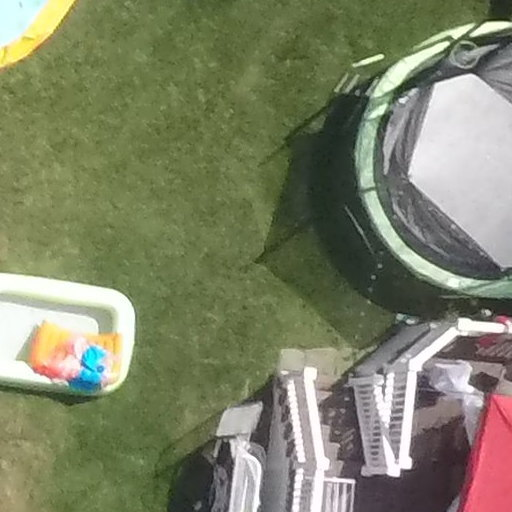pool: (1, 266, 165, 398)
toy: (36, 317, 134, 392)
